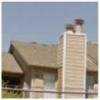chimneys: (58, 18, 88, 94)
